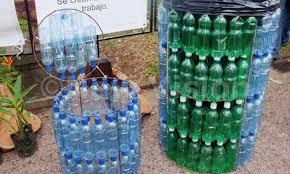Plastic bottle: (164, 18, 252, 171), (53, 85, 145, 174)
